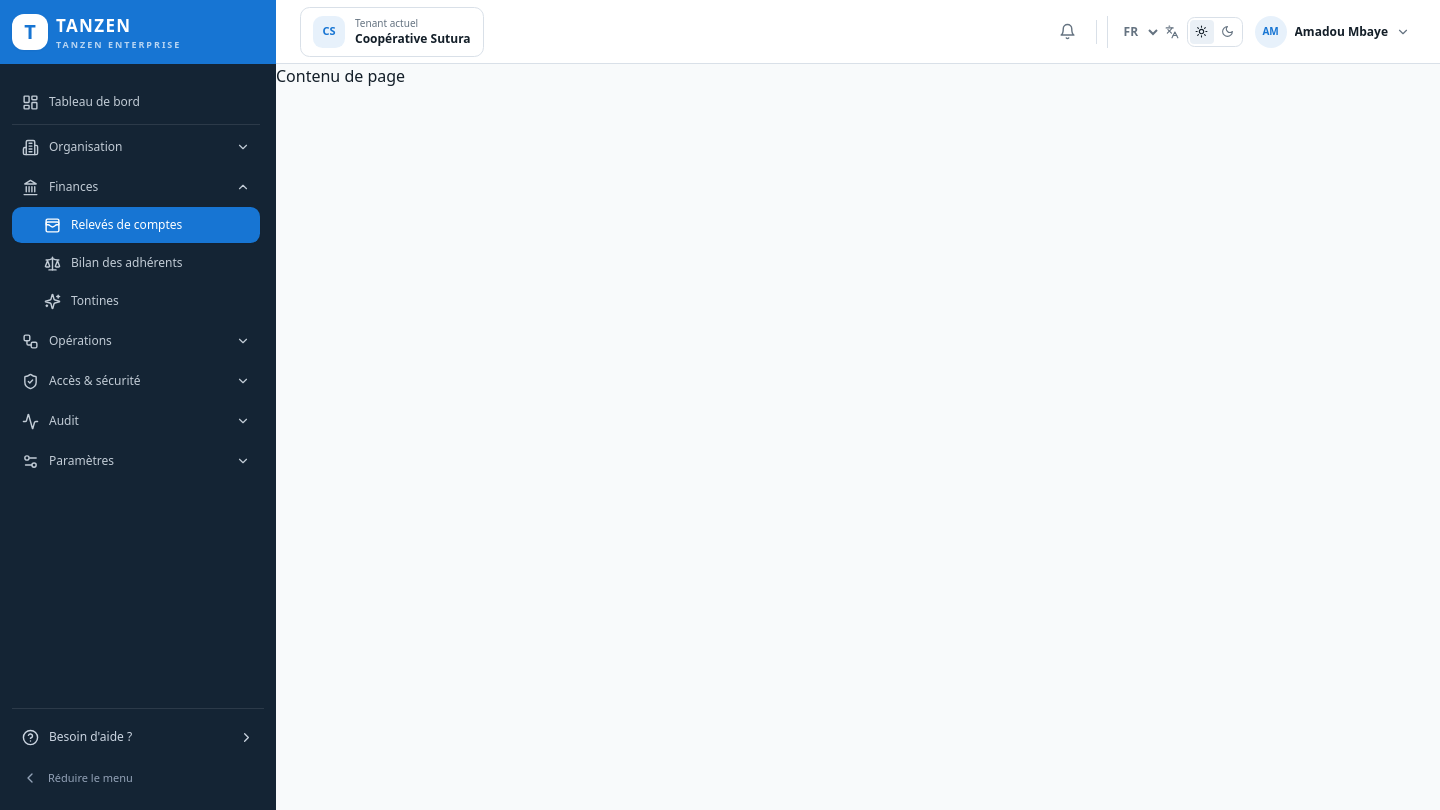
Test case: AppShell — bandeau de branding pleine largeur, fond bleu/navy (mandat "Alignement et fond complet du bloc TANZEN Enterprise", 2026-09-16) › en mode réduit : le logo "T" et le bandeau restent, le texte TANZEN/TANZEN ENTERPRISE disparaît, sans débordement
Expected: the text "TANZEN" is shown, [56,14,132,36]
Step 1. Click the button "Réduire le menu" → (138,778), box [12,762,264,794]
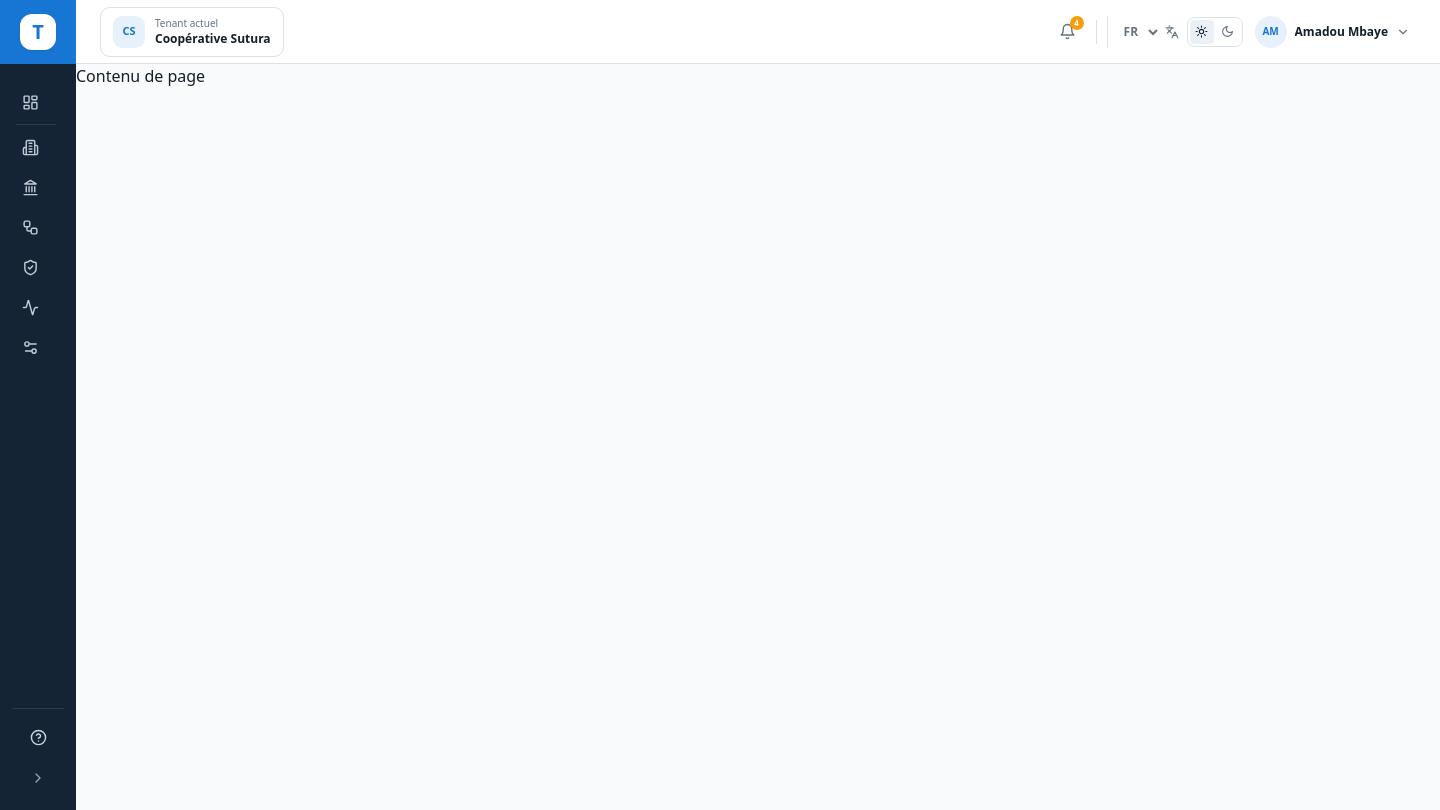
Expected: the button "T" is shown, [20,14,56,50]
Expected: the text "TANZEN" is gone
Expected: the text "TANZEN ENTERPRISE" is gone
